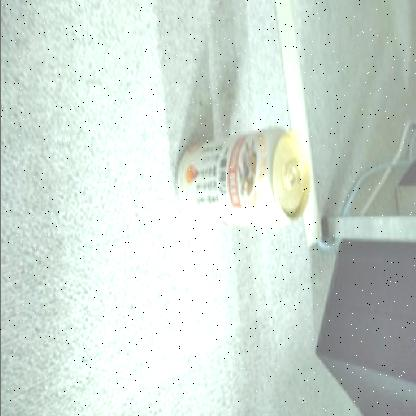Can: (174, 126, 312, 226)
